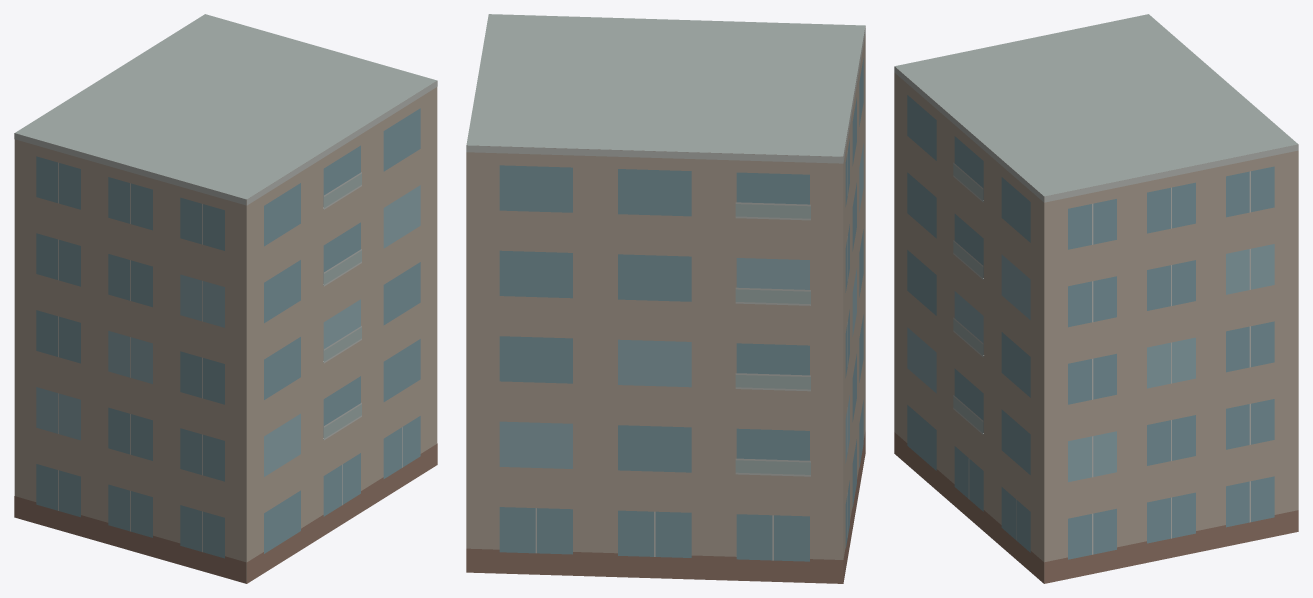
File: residential-05ece286-c182-4e96-bad0-f5d1da4524eb.glb
3 renders of one model, left to right at view 1: azimuth 30°, elevation 25°; view 2: azimuth 150°, elevation 25°; view 3: azimuth 270°, elevation 25°, orthographic. The views are drawn at different scales.
Visible parts, largest first — view 1: residential-05ece286-c182-4e96-bad0-f5d1da4524eb.tmp; view 2: residential-05ece286-c182-4e96-bad0-f5d1da4524eb.tmp; view 3: residential-05ece286-c182-4e96-bad0-f5d1da4524eb.tmp.
Boxes of the visible parts, x1=… form: residential-05ece286-c182-4e96-bad0-f5d1da4524eb.tmp: x1=14, y1=14, x2=437, y2=583; residential-05ece286-c182-4e96-bad0-f5d1da4524eb.tmp: x1=466, y1=14, x2=865, y2=583; residential-05ece286-c182-4e96-bad0-f5d1da4524eb.tmp: x1=894, y1=14, x2=1298, y2=583.
Bounding box in the file's own units: 15.41 × 15.25 × 14.43.
